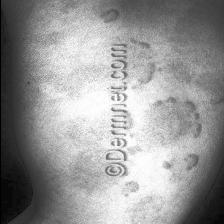Toxin: (100, 37, 156, 91), (144, 96, 202, 148), (97, 9, 118, 24)
